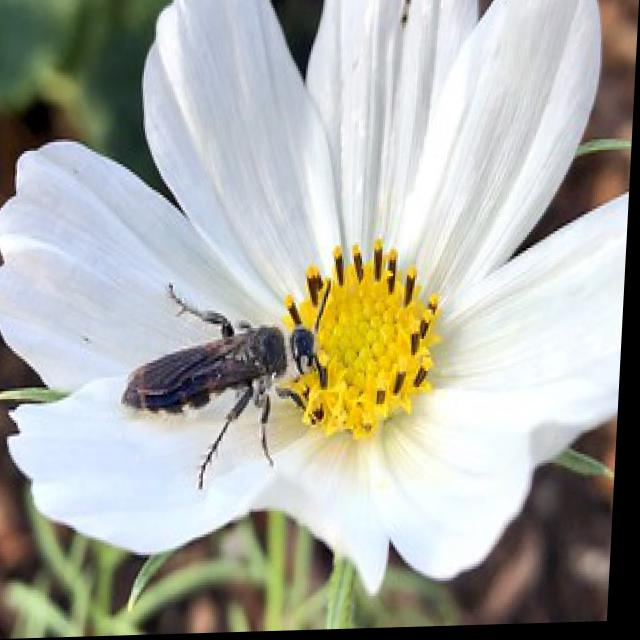Guepe: (109, 248, 341, 511)
